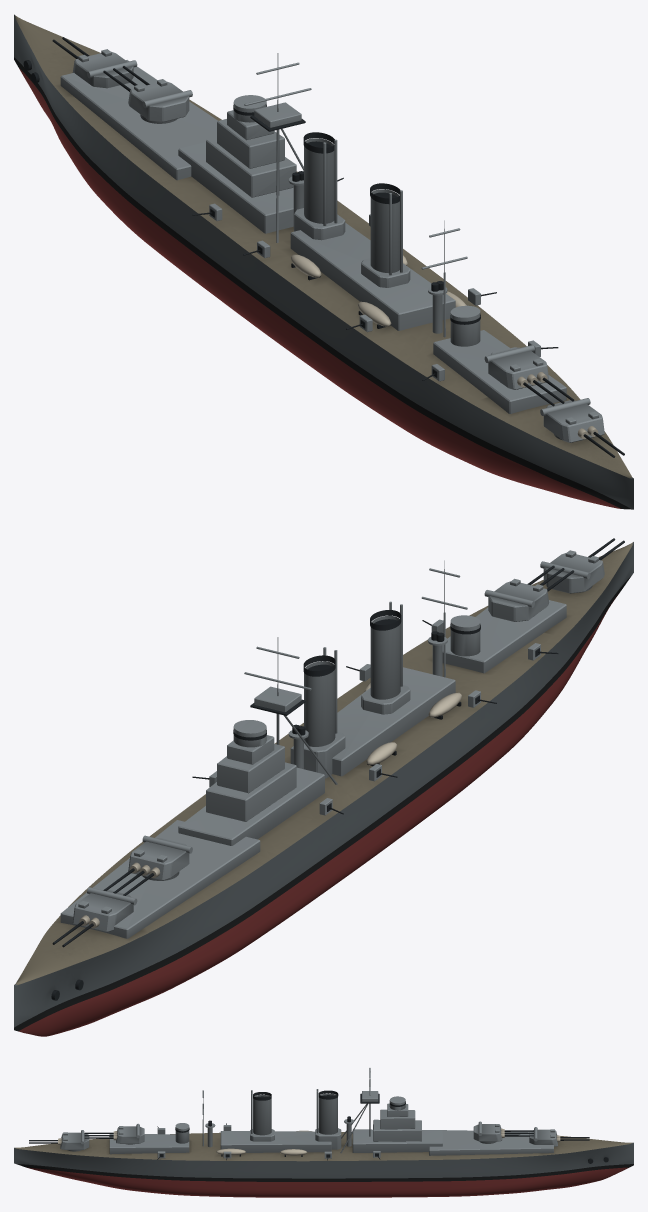
The model's file is uss-salt-lake-city.glb.
3 renders of one model, top to bottom at view 1: azimuth 30°, elevation 25°; view 2: azimuth 150°, elevation 25°; view 3: azimuth 270°, elevation 25°, orthographic. The views are drawn at different scales.
Visible parts, largest first — view 1: uss-salt-lake-city; view 2: uss-salt-lake-city; view 3: uss-salt-lake-city.
Boxes of the visible parts, x1,y1,x2,y2 form: uss-salt-lake-city: (14, 14, 633, 509); uss-salt-lake-city: (14, 538, 633, 1036); uss-salt-lake-city: (14, 1068, 633, 1197).
Size of the model in its own units: 25.59 by 38.83 by 178.
